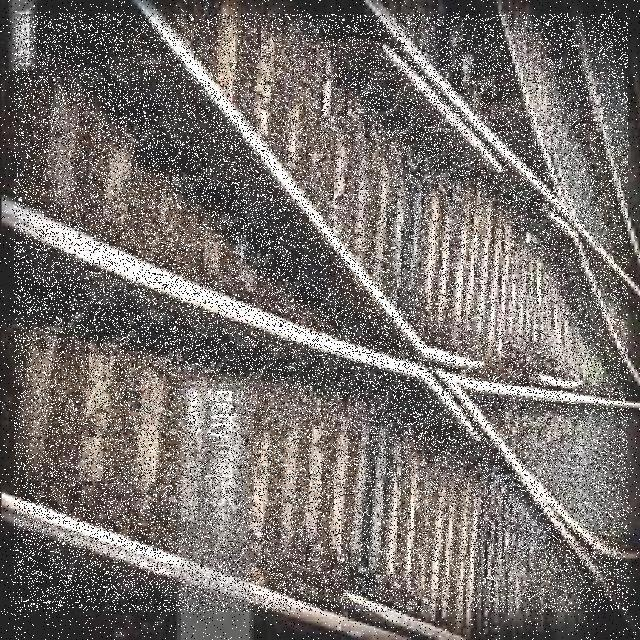rail: (14, 14, 628, 612)
